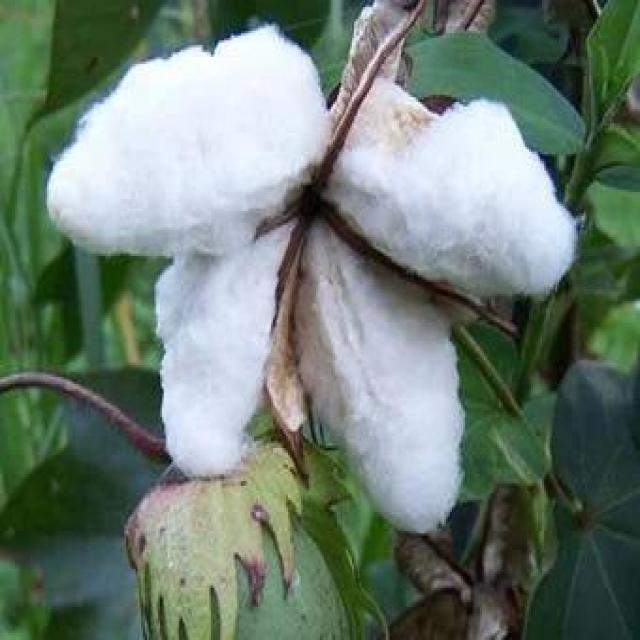Leaf: (41, 6, 581, 566)
